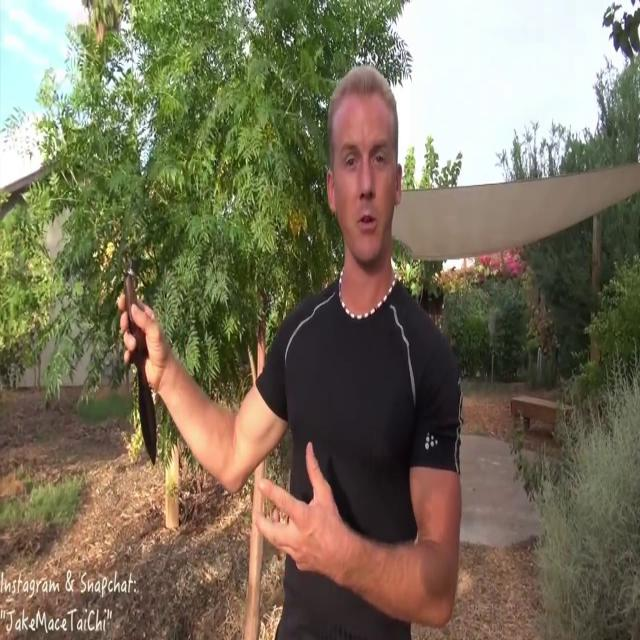knife: (111, 264, 171, 473)
